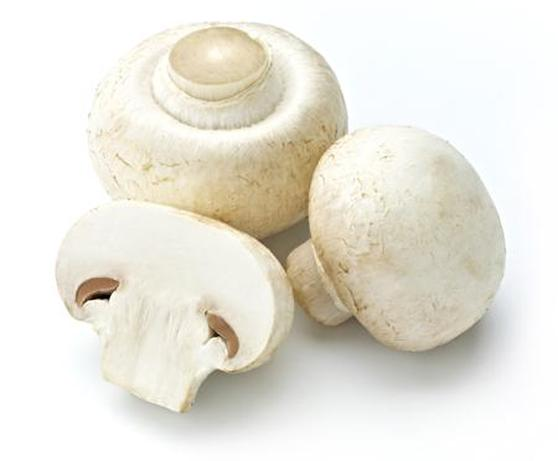champignon: (92, 15, 347, 233), (290, 118, 505, 350)
